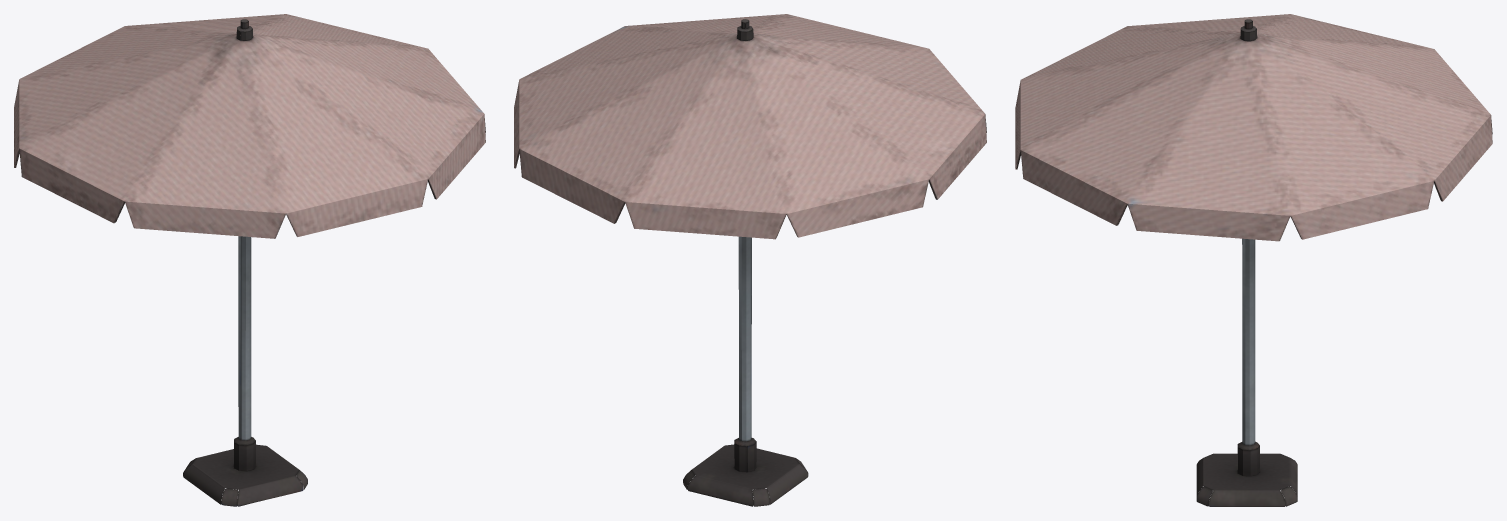
File: Umbrella.fbx
The picture shows the model from 3 angles, left to right: view 1: azimuth 30°, elevation 25°; view 2: azimuth 150°, elevation 25°; view 3: azimuth 270°, elevation 25°; orthographic projection.
Parts seen in each view (by area): view 1: Umbrella; view 2: Umbrella; view 3: Umbrella.
Part boxes in pixels (x1,y1,x2,y2): Umbrella: [14, 14, 485, 506]; Umbrella: [514, 14, 986, 506]; Umbrella: [1015, 14, 1492, 506].
Size of the model in its own units: 171 by 180 by 168.
Materials: 1 (1 with a texture image).
